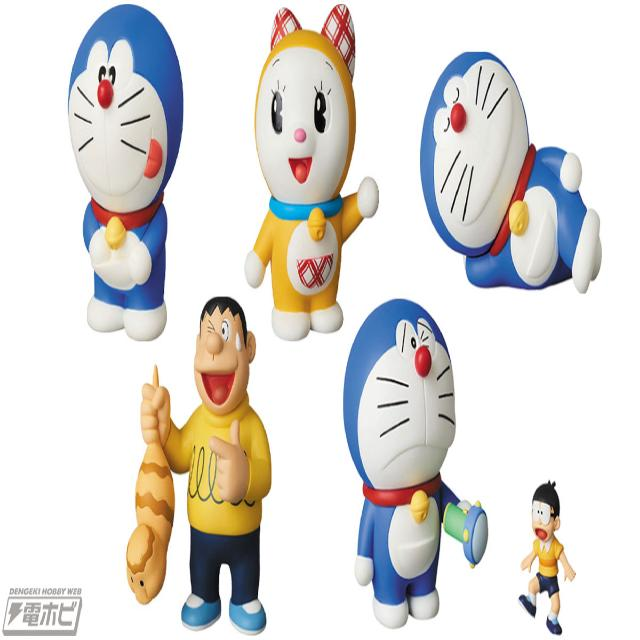doraemon: (331, 280, 470, 558), (411, 44, 563, 290)
jaian: (178, 289, 274, 454)
nobita: (524, 473, 570, 563)
